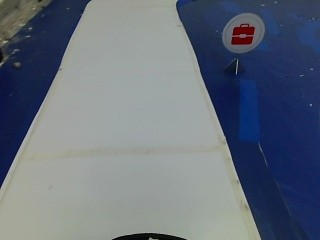company: (221, 12, 265, 52)
